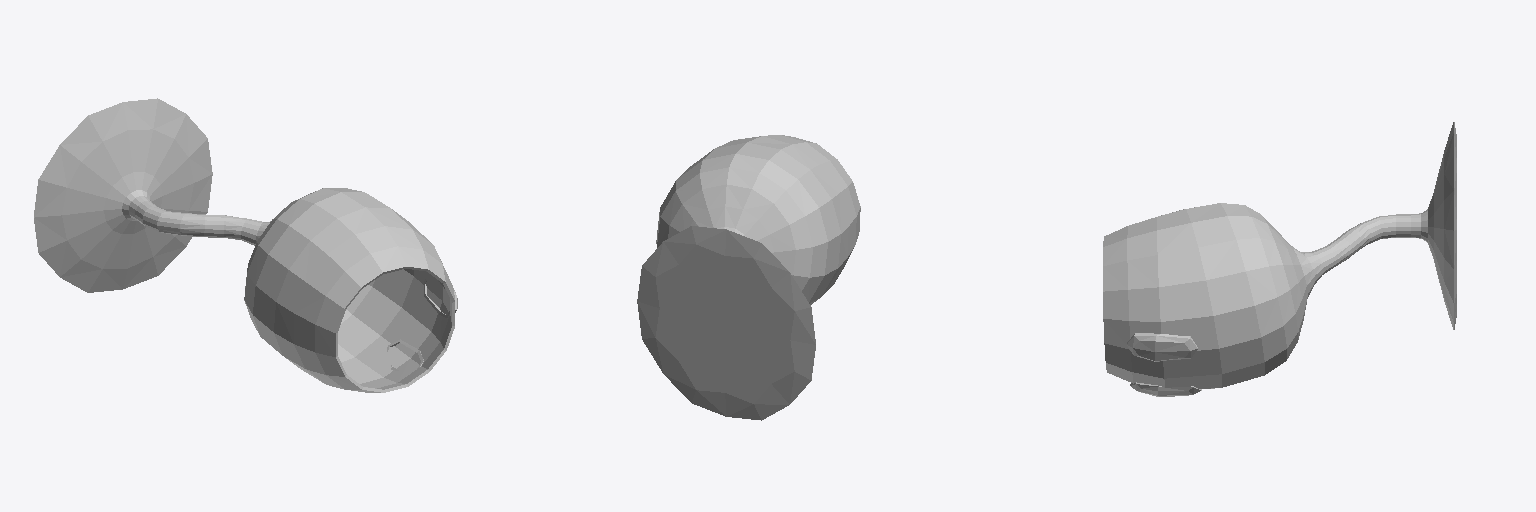
The model's file is animation_000010.obj.
The picture shows the model from 3 angles: view 1: azimuth 30°, elevation 25°; view 2: azimuth 150°, elevation 25°; view 3: azimuth 270°, elevation 25°; orthographic projection.
Size of the model in its own units: 3.12 by 2.23 by 3.54.